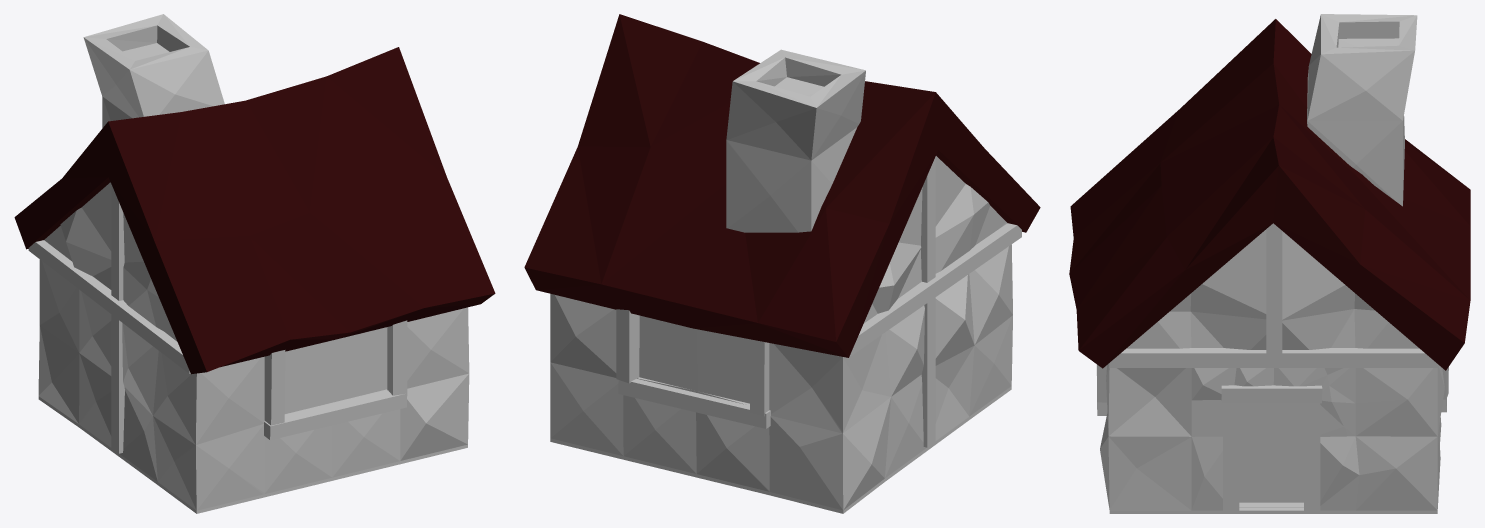
The model's file is settlement.obj.
3 renders of one model, left to right at view 1: azimuth 30°, elevation 25°; view 2: azimuth 150°, elevation 25°; view 3: azimuth 270°, elevation 25°, orthographic. The views are drawn at different scales.
Parts seen in each view (by area): view 1: bodyRed_Cube.017; view 2: bodyRed_Cube.017; view 3: bodyRed_Cube.017.
Part boxes in pixels (bbox=[...]): bodyRed_Cube.017: bbox=[14, 14, 495, 513]; bodyRed_Cube.017: bbox=[524, 14, 1040, 513]; bodyRed_Cube.017: bbox=[1069, 14, 1470, 513].
Bounding box in the file's own units: 0.5507 × 0.6434 × 0.6115.
